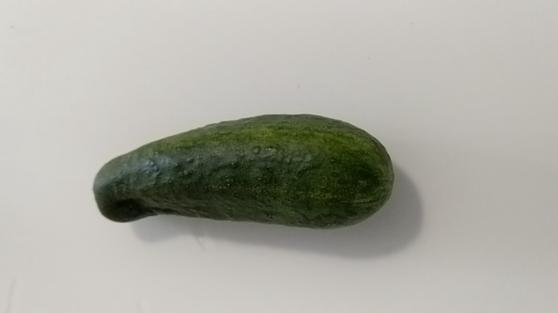cucumber: (93, 114, 393, 227)
